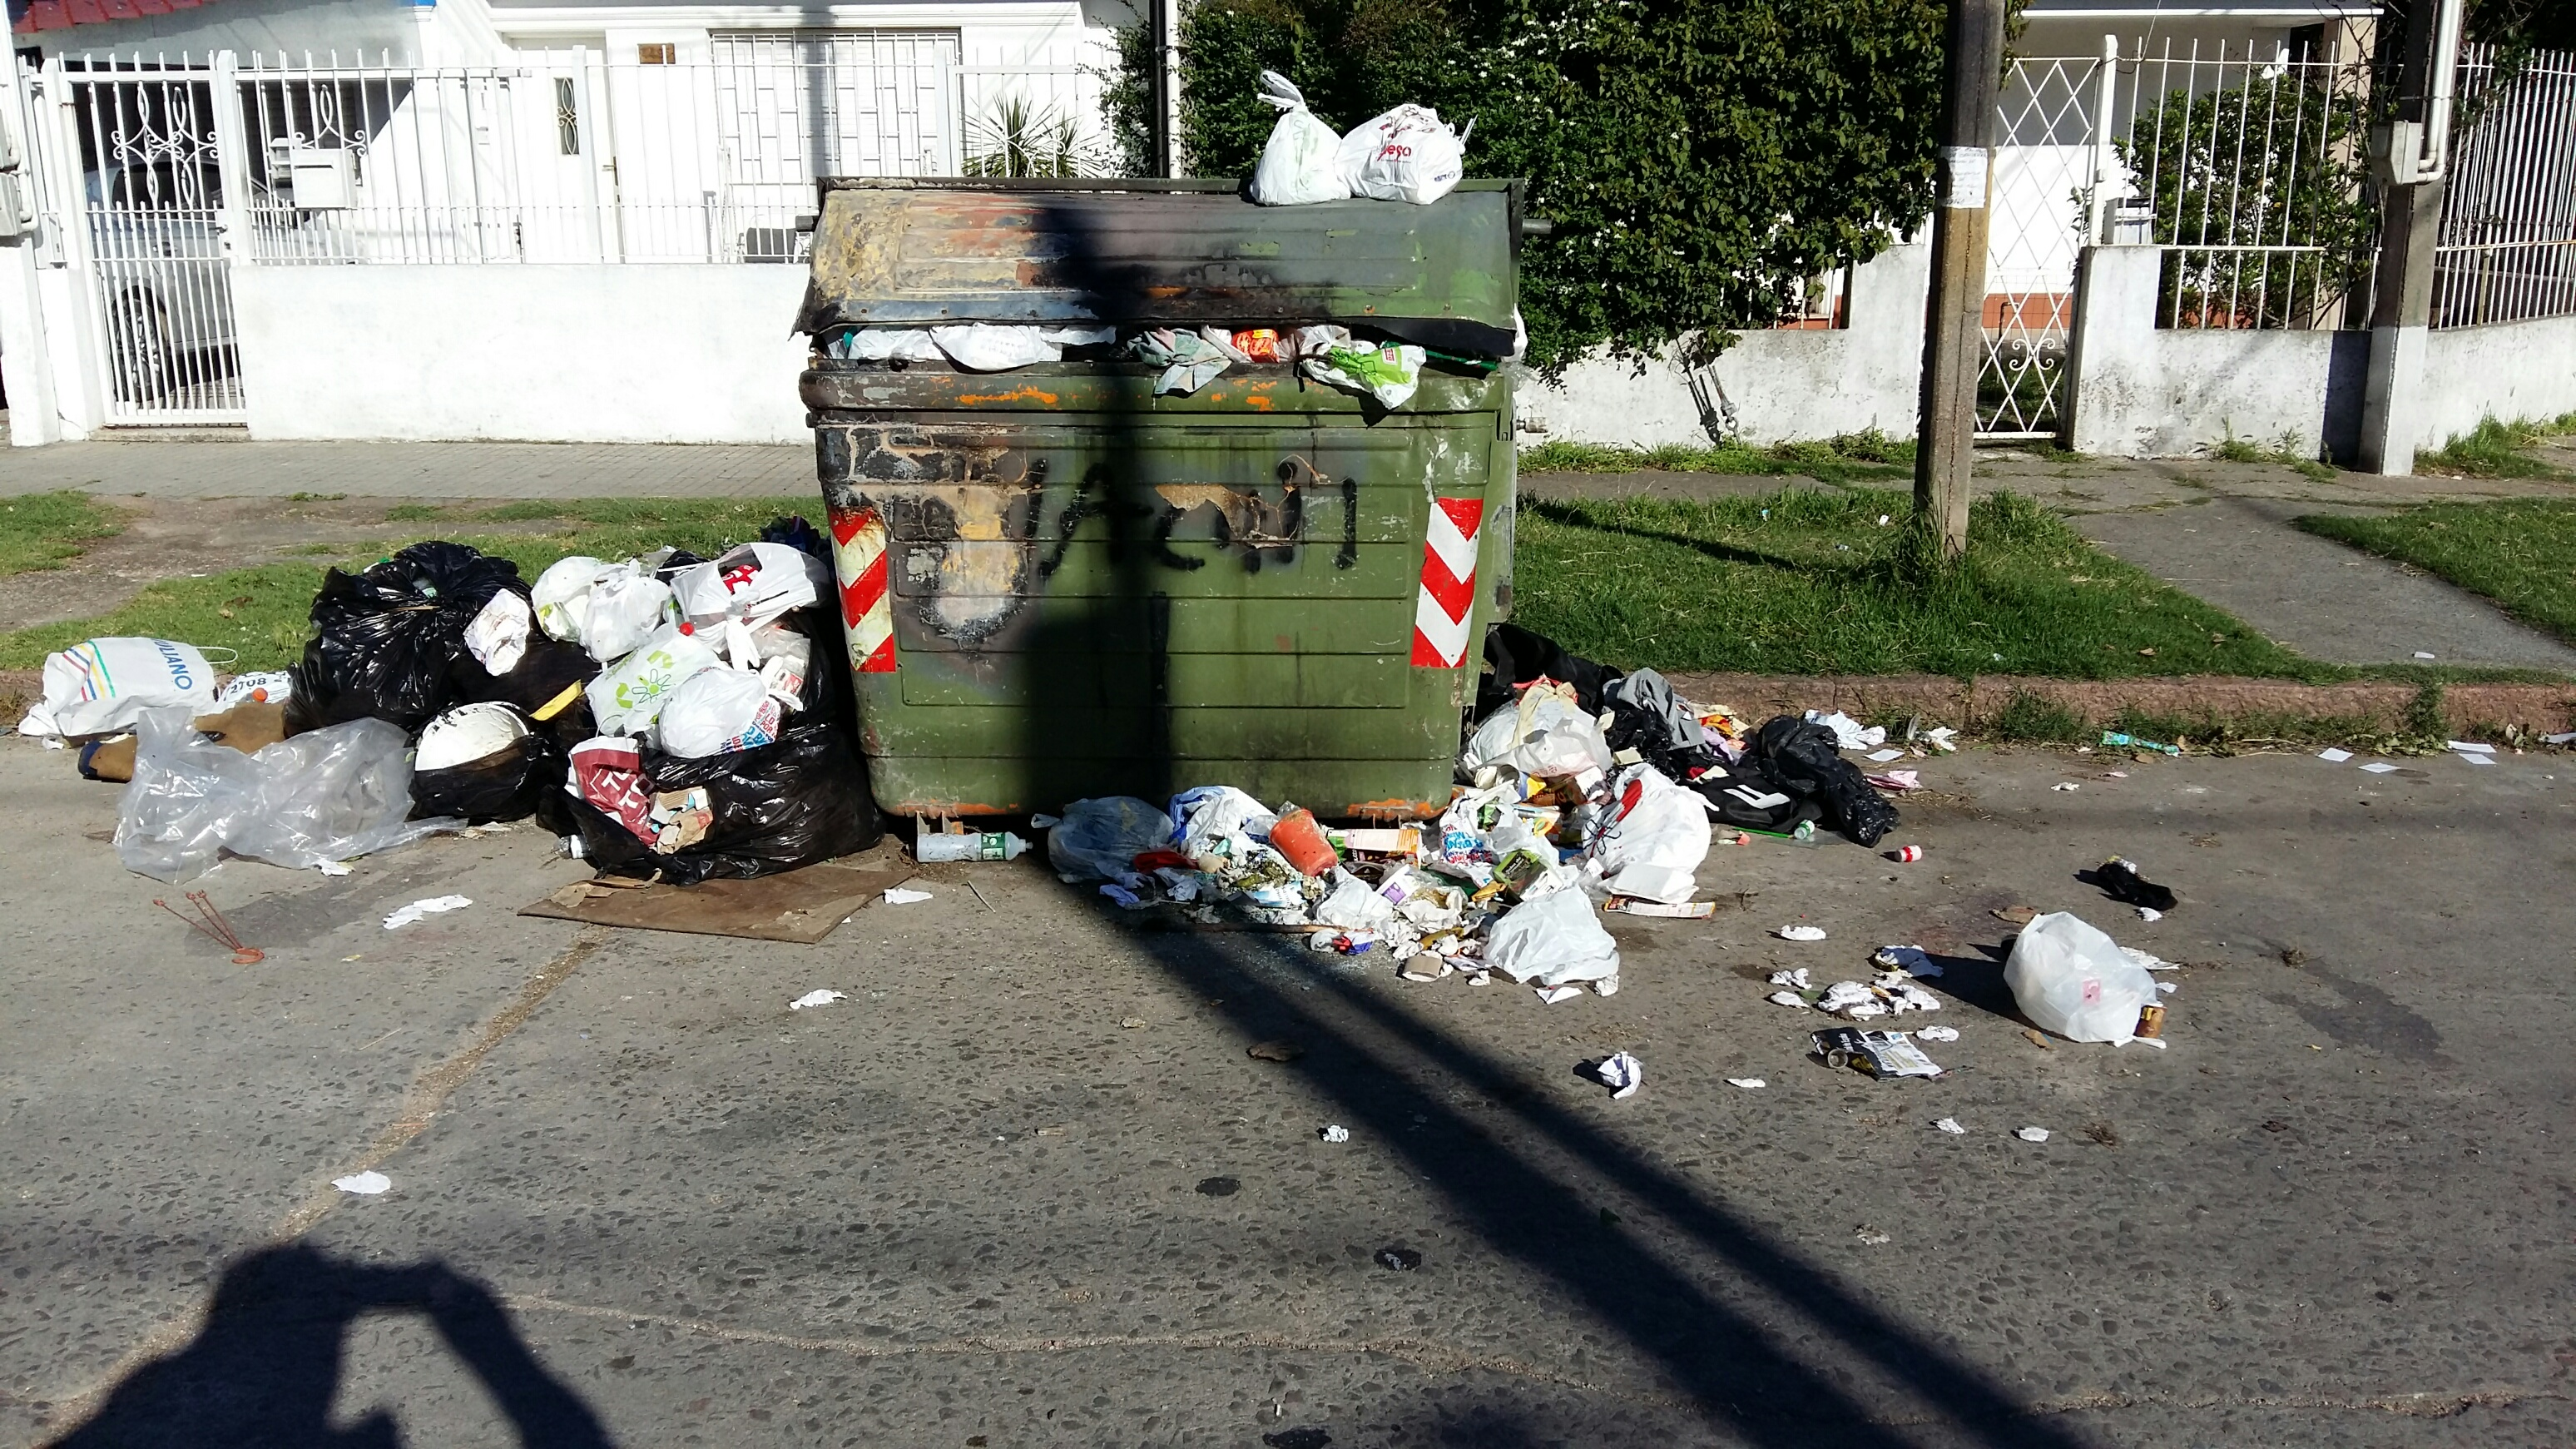container: (793, 159, 1532, 817)
